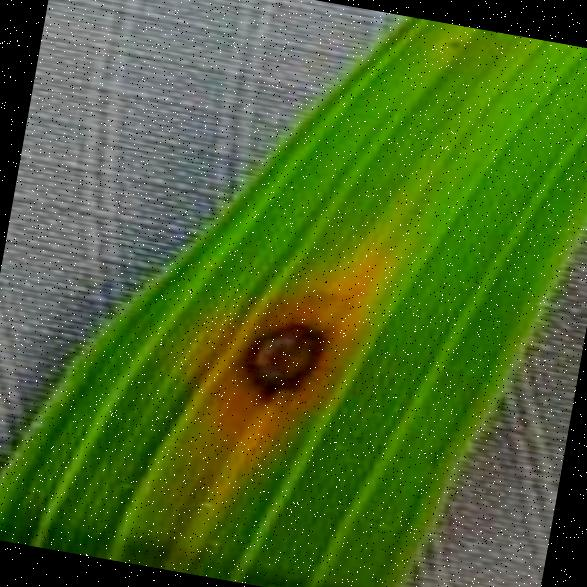Brown_Spot: (208, 290, 354, 430), (438, 27, 471, 54)
